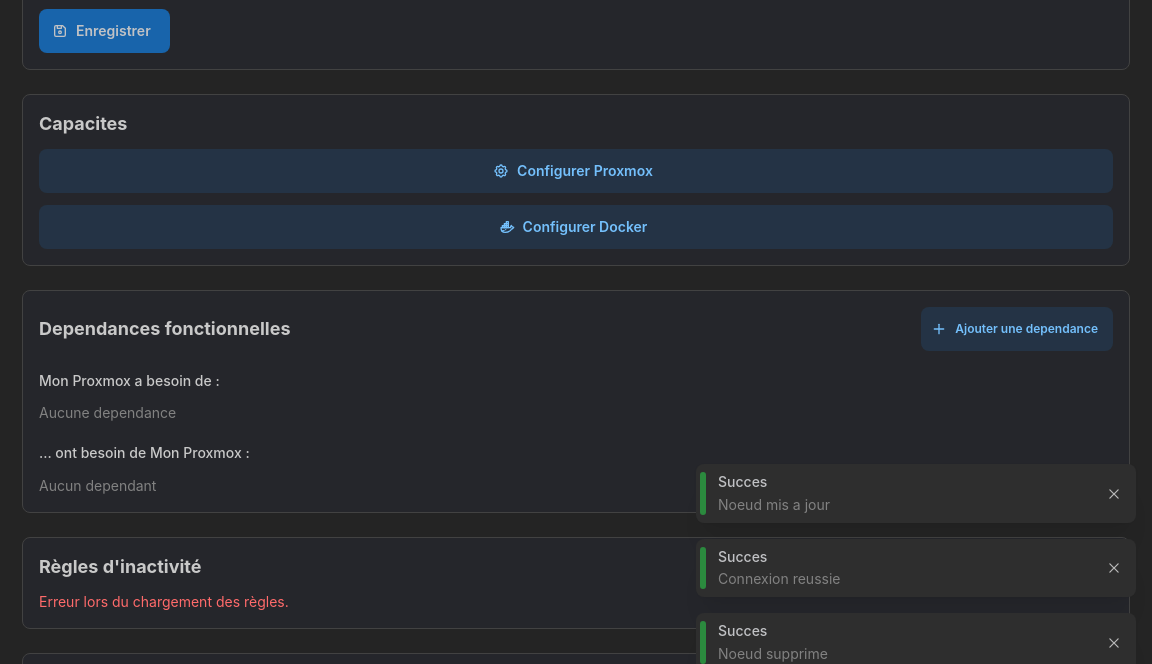
Test: NodeDetailPage › should open add dependency form when clicking "Ajouter une dependance"
The image size is (1152, 664).
(page scrolled)
Expected: the heading "Dependances fonctionnelles" is shown, [39, 316, 290, 342]
What coordinates should you click on to do the following:
click the button "Ajouter une dependance"
I would click on:
 (1017, 329)
Its box is [921, 307, 1113, 351].
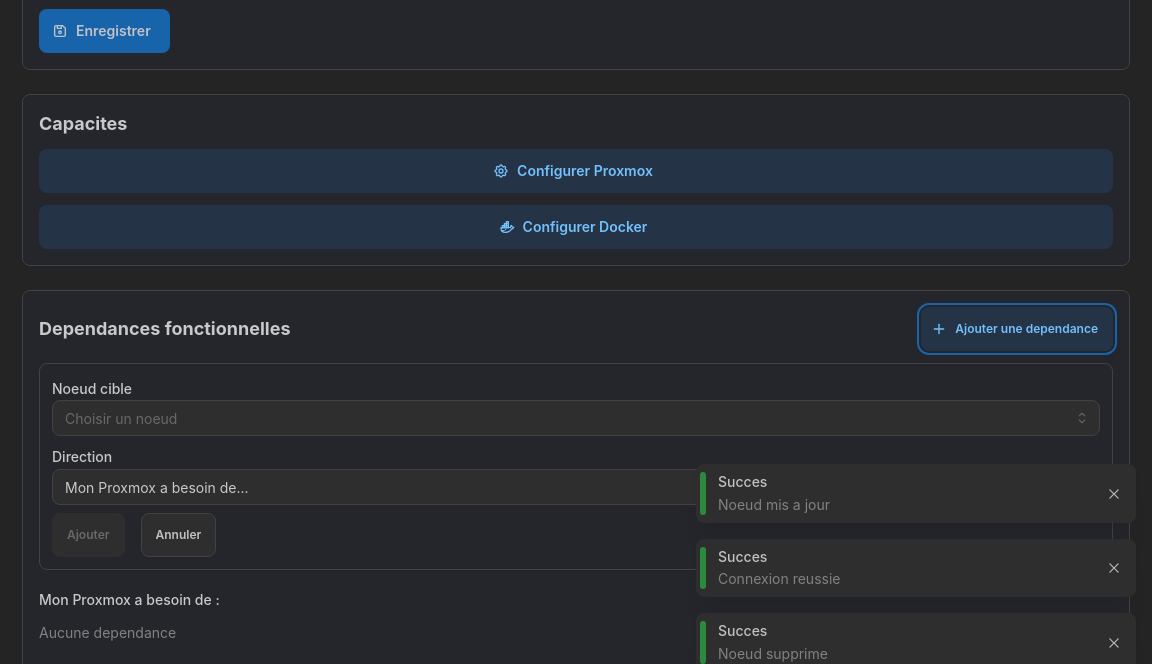
Expected: the text "Noeud cible" is shown, [52, 378, 132, 399]
Expected: the text "Direction" is shown, [52, 446, 112, 468]
Expected: the button "Ajouter" is shown, [67, 527, 110, 542]
